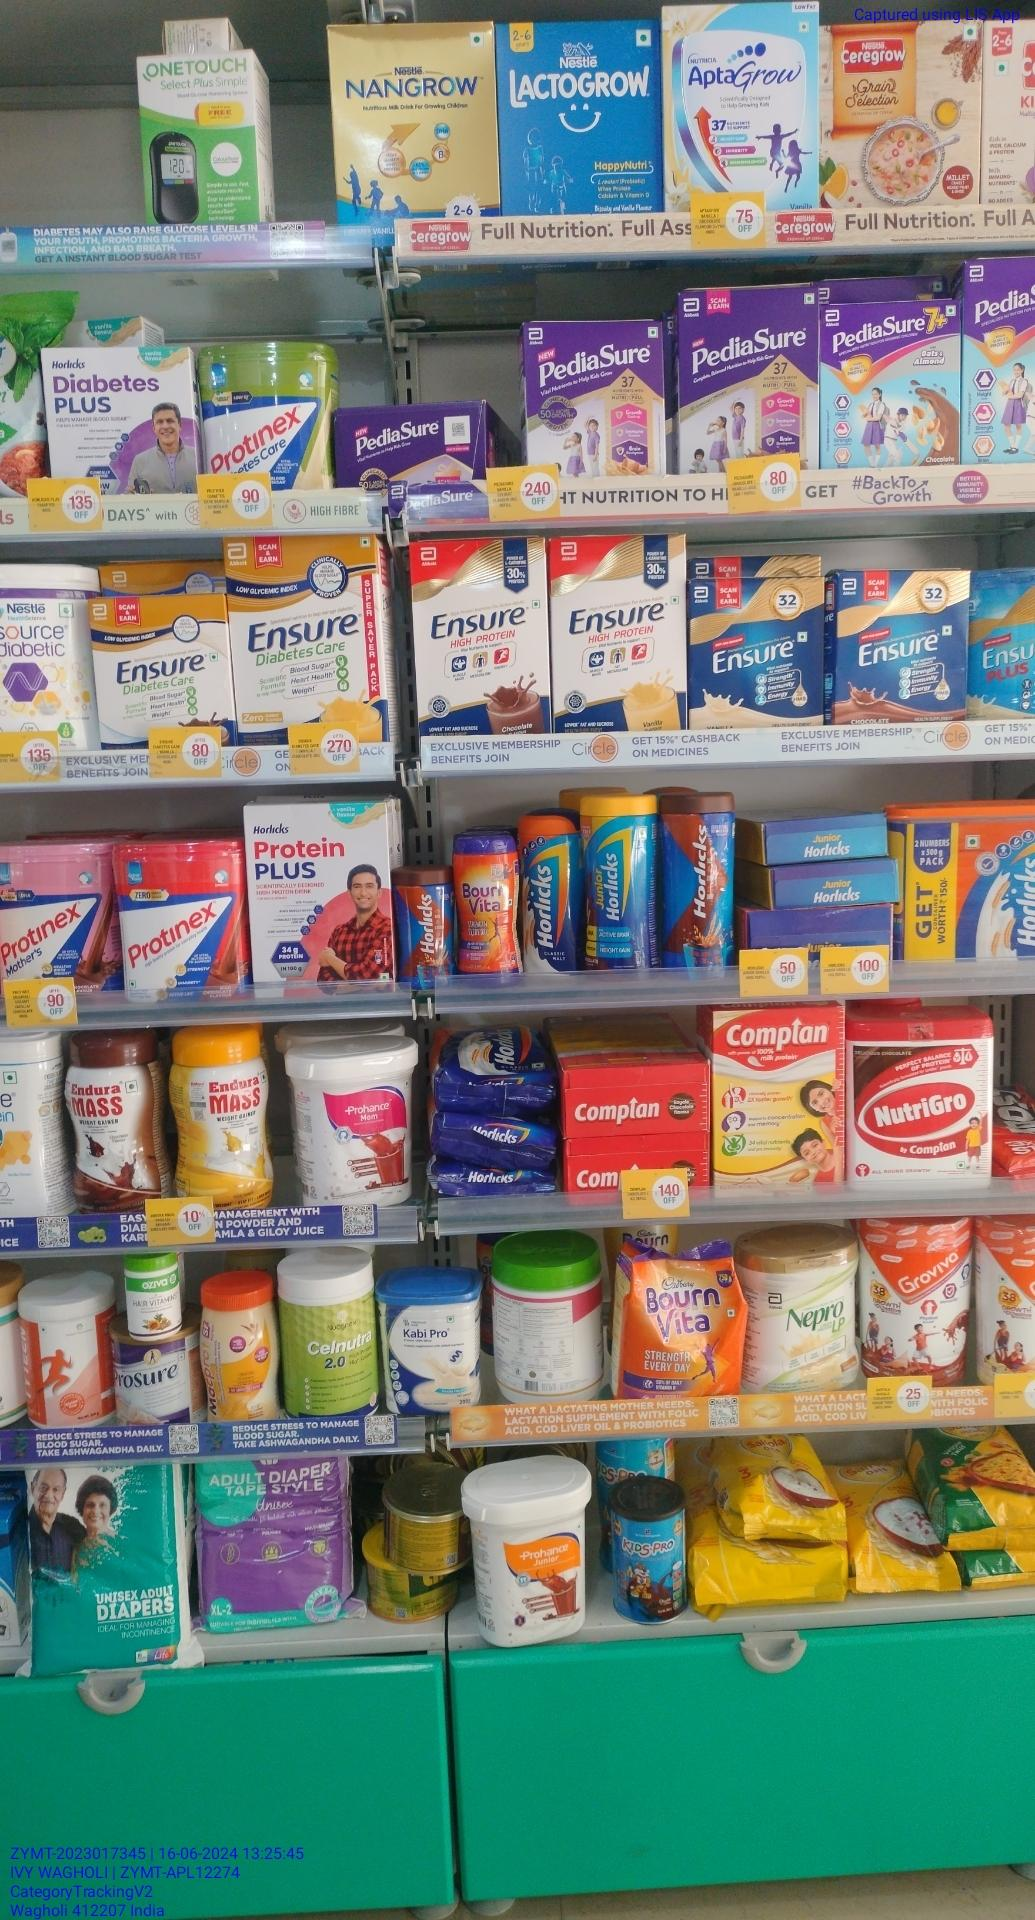BOURN_VITA_200_G_JAR: (456, 829, 512, 982)
HORLICKS_JUNIOR_VANILLA_500_GM_JAR: (583, 794, 650, 981)
HORLICK_CHOCOLATE_200_G_JAR: (395, 870, 452, 991)
HORLICK_CHOCOLATE_500_G_JAR: (663, 792, 734, 971)
HORLICK_MALT_1_KG_CONTAINER: (892, 806, 1035, 964)
PEDIASURE_CHOCOLATE_500_G_PACK: (678, 283, 817, 473)
PROTINEX_CHOCOLATE_400_G_JAR: (116, 837, 238, 1003)
